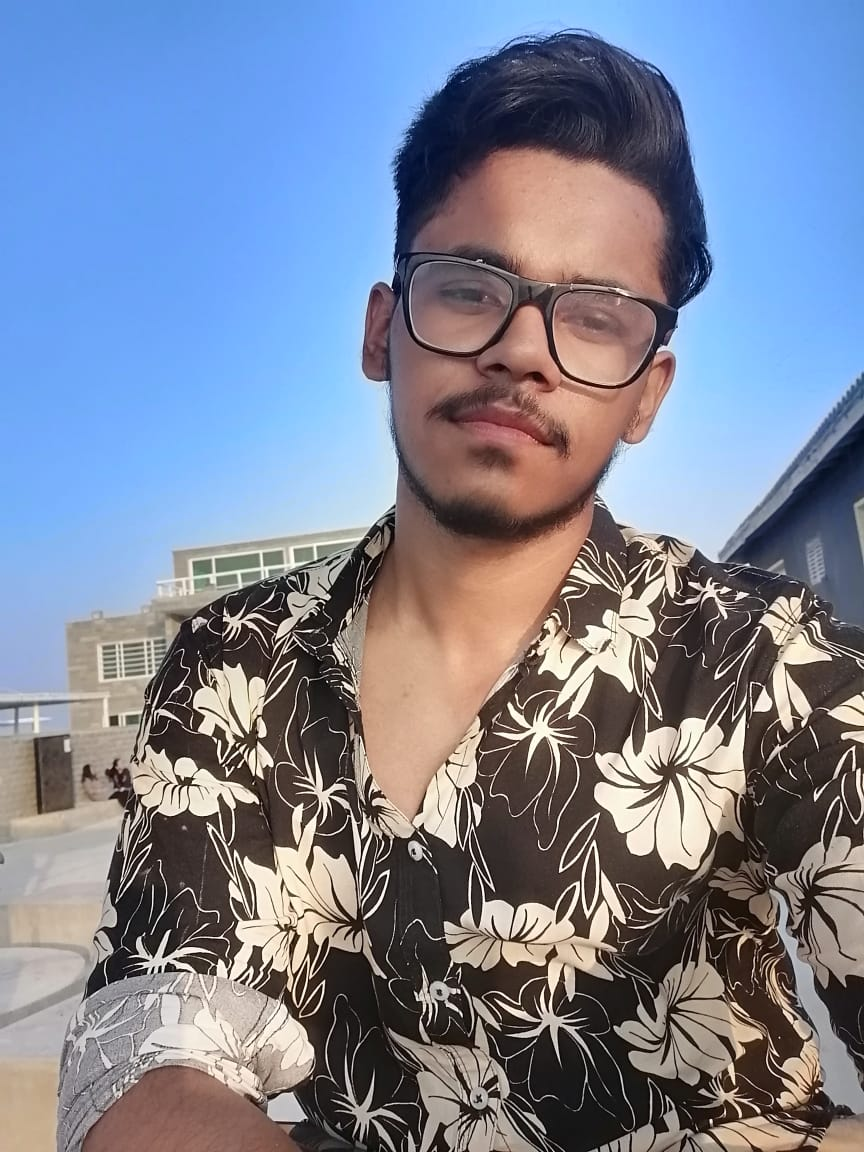NoMask: (401, 229, 637, 533)
